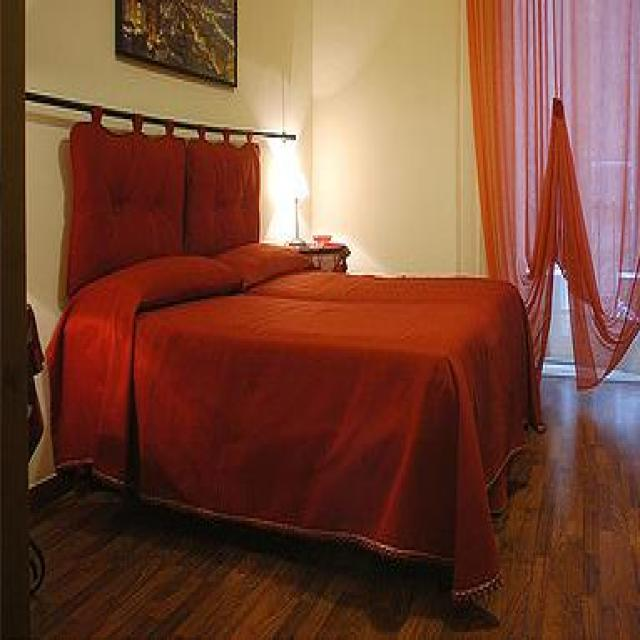bed: (51, 101, 547, 612)
